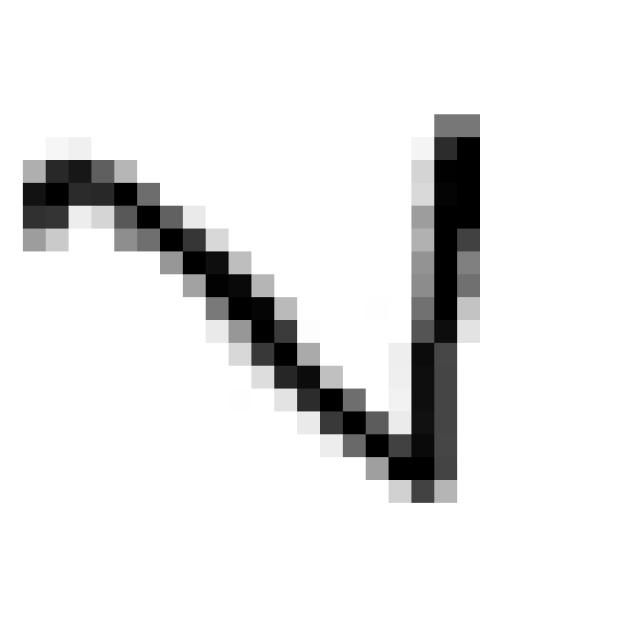7 -seven-: (7, 85, 499, 518)
